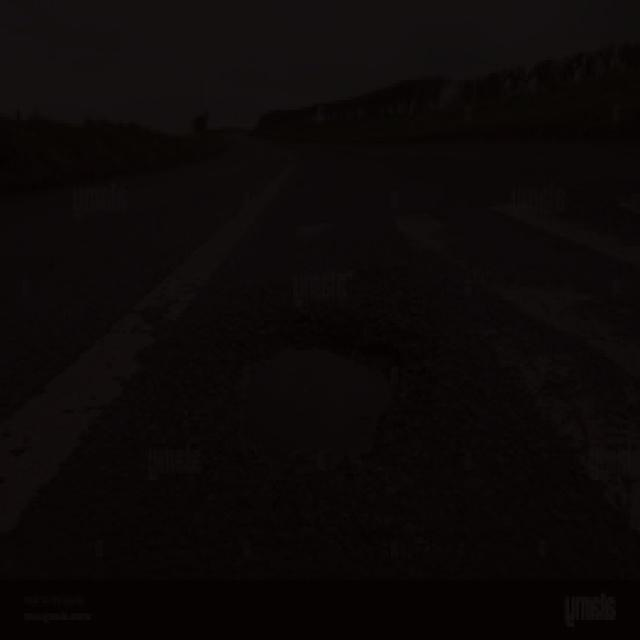Pothole: (215, 322, 417, 489)
